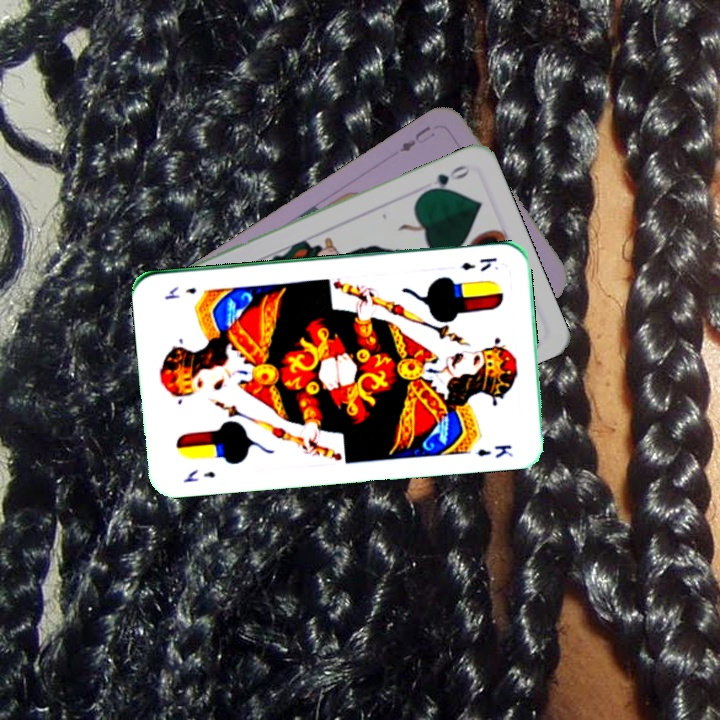EK: (457, 253, 500, 274), (179, 465, 218, 485)
EU: (396, 122, 438, 155)
GO: (419, 161, 473, 197)
